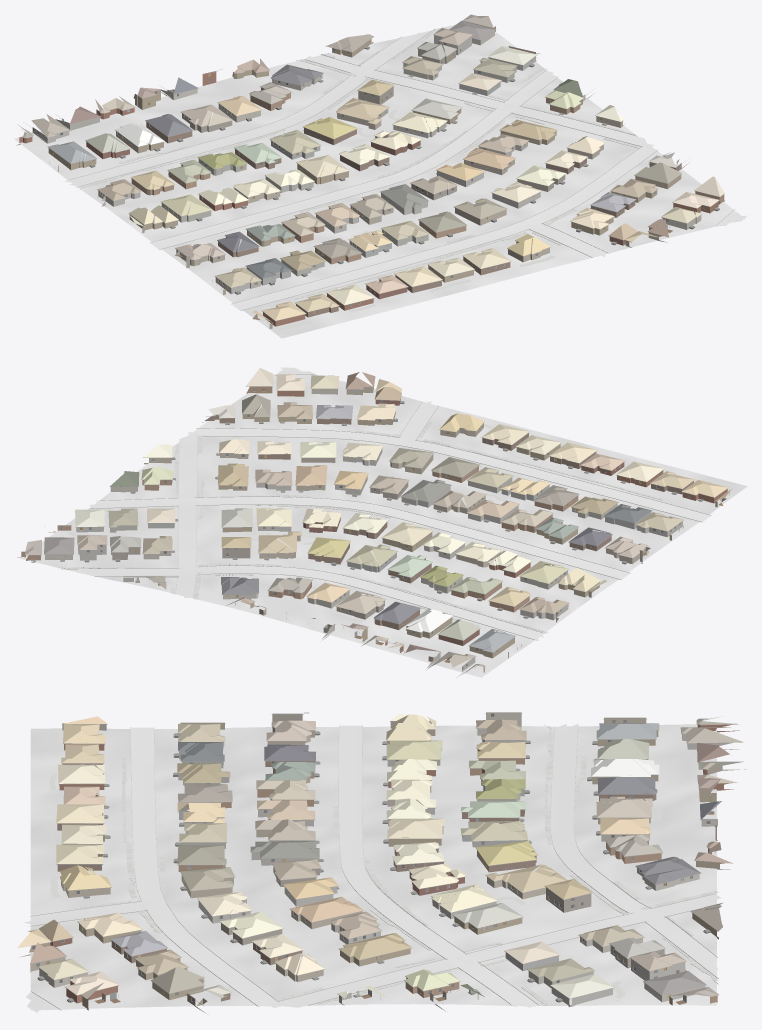
The picture shows the model from 3 angles, top to bottom: view 1: azimuth 30°, elevation 25°; view 2: azimuth 150°, elevation 25°; view 3: azimuth 270°, elevation 25°; orthographic projection. The views are drawn at different scales.
Parts seen in each view (by area): view 1: ground, roof, concrete, wall, detail, wall_stucco, curb, walk, wall_stone; view 2: ground, roof, concrete, wall, detail, curb, wall_stucco, walk, wall_stone; view 3: ground, roof, concrete, wall, detail, walk, wall_stucco, curb, wall_stone, glass.
Boxes of the visible parts, x1,y1,x2,y2 form: ground: (14, 24, 745, 338); roof: (17, 14, 724, 322); concrete: (64, 32, 747, 310); wall: (16, 24, 724, 328); detail: (19, 20, 724, 323); wall_stucco: (55, 31, 701, 285); curb: (68, 27, 734, 310); walk: (79, 28, 641, 330); wall_stone: (27, 35, 540, 294); ground: (20, 367, 747, 677); roof: (25, 367, 731, 674); concrete: (70, 367, 710, 640); wall: (17, 386, 727, 672); detail: (25, 386, 729, 669); curb: (61, 374, 711, 640); wall_stucco: (45, 389, 651, 670); walk: (58, 421, 732, 631); wall_stone: (76, 448, 682, 677); ground: (30, 724, 716, 1010); roof: (17, 713, 743, 998); concrete: (24, 724, 721, 1012); wall: (19, 713, 739, 1012); detail: (26, 712, 740, 1002); walk: (47, 726, 719, 1005); wall_stucco: (39, 712, 746, 1011); curb: (29, 724, 718, 1010); wall_stone: (179, 729, 738, 1006); glass: (32, 713, 710, 1001).
Bounding box in the file's own units: 261 × 14.98 × 267.
